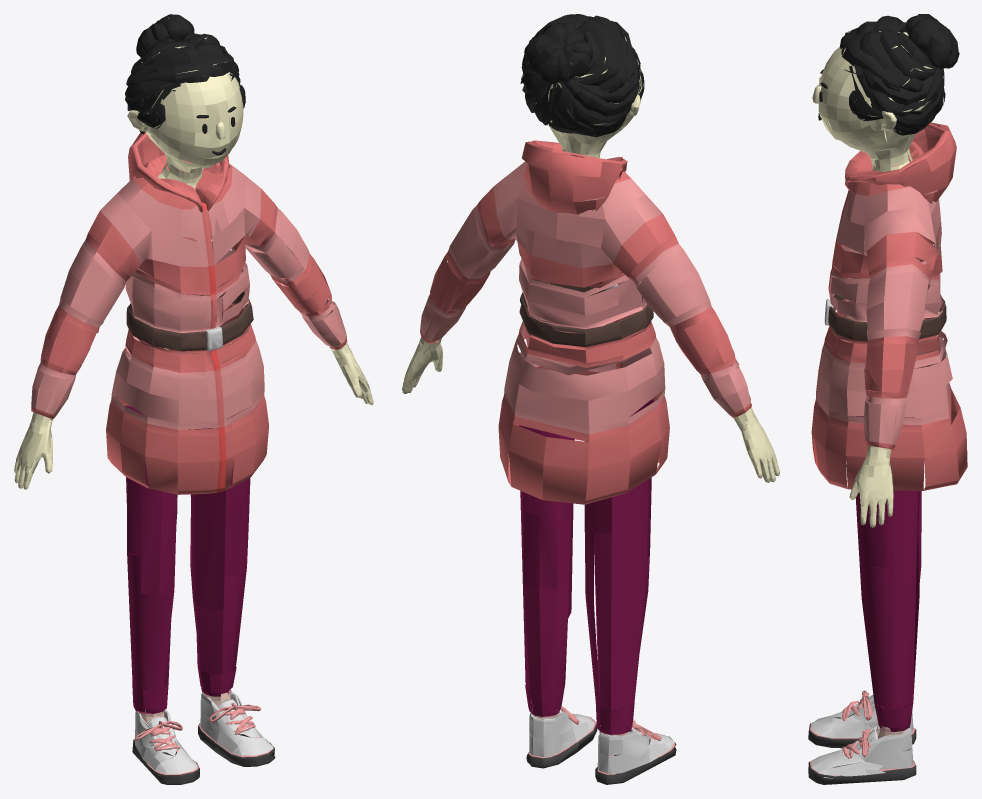
File: person_f_8.glb
The picture shows the model from 3 angles, left to right: view 1: azimuth 30°, elevation 25°; view 2: azimuth 150°, elevation 25°; view 3: azimuth 270°, elevation 25°; orthographic projection. The views are drawn at different scales.
Parts seen in each view (by area): view 1: f_8; view 2: f_8; view 3: f_8.
Part boxes in pixels (x1,y1,x2,y2): f_8: (14,14,373,784); f_8: (402,14,779,784); f_8: (808,14,967,784).
Size of the model in its own units: 0.9546 by 1.87 by 0.3633.
Materials: 1 (1 with a texture image).
